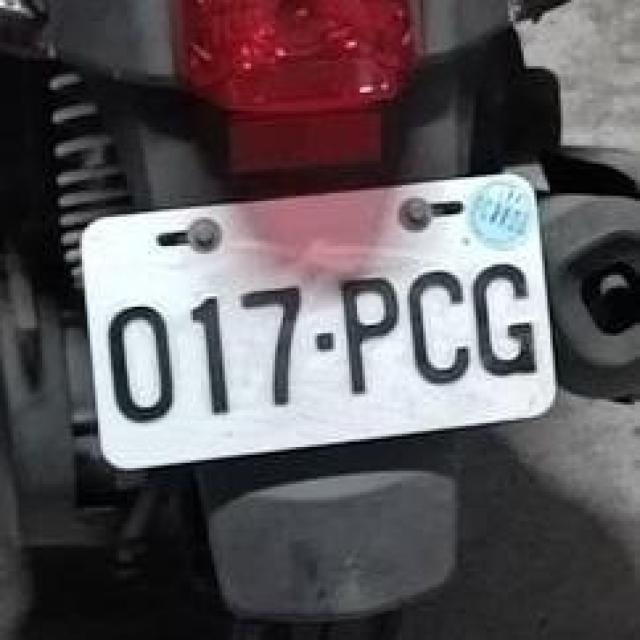W: (74, 156, 561, 471)
